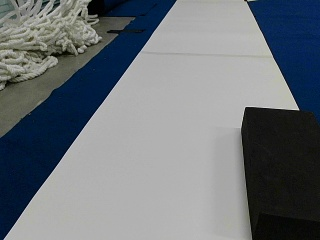block: (243, 106, 319, 237)
